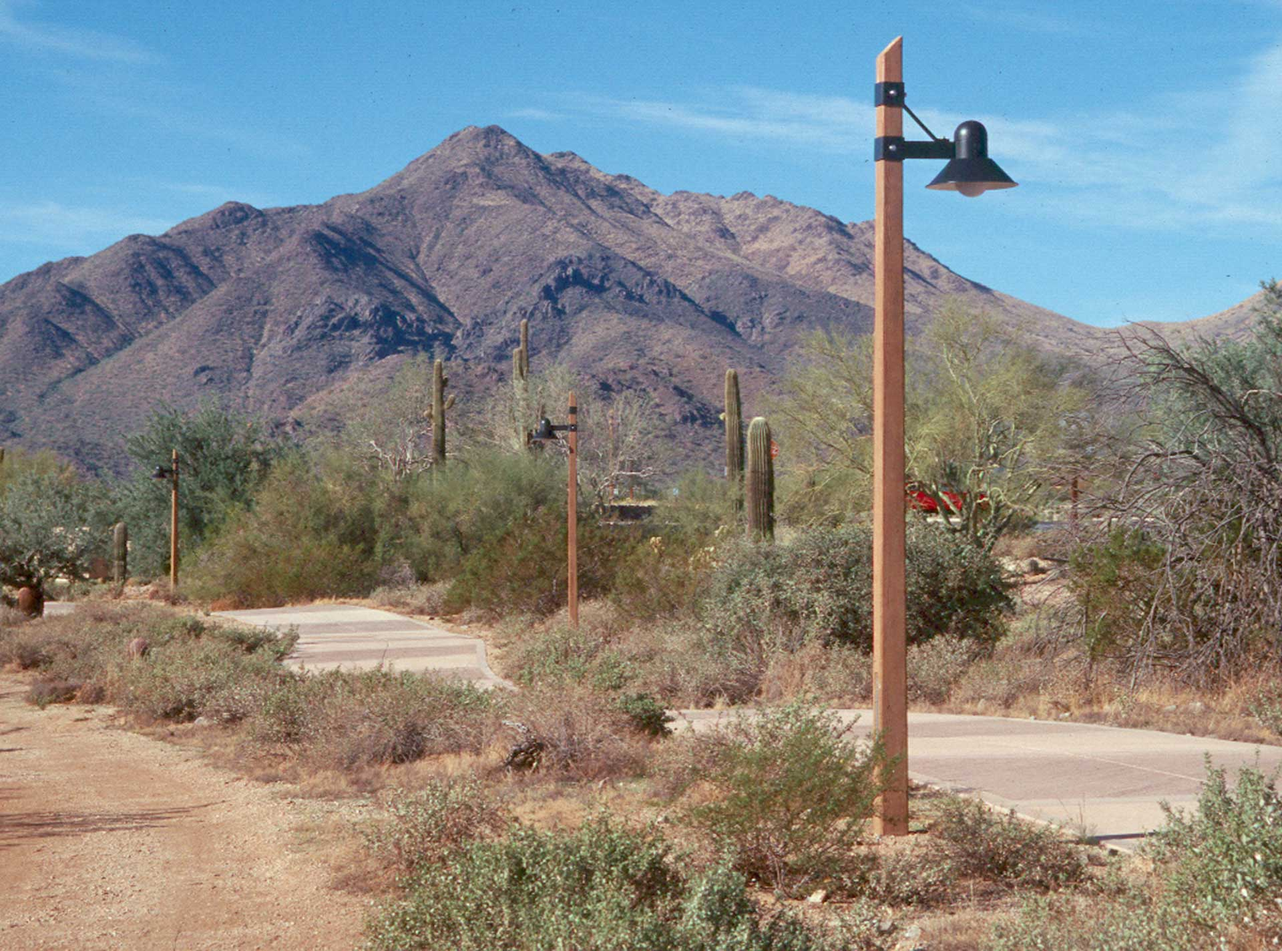light_pole: (855, 42, 923, 832)
